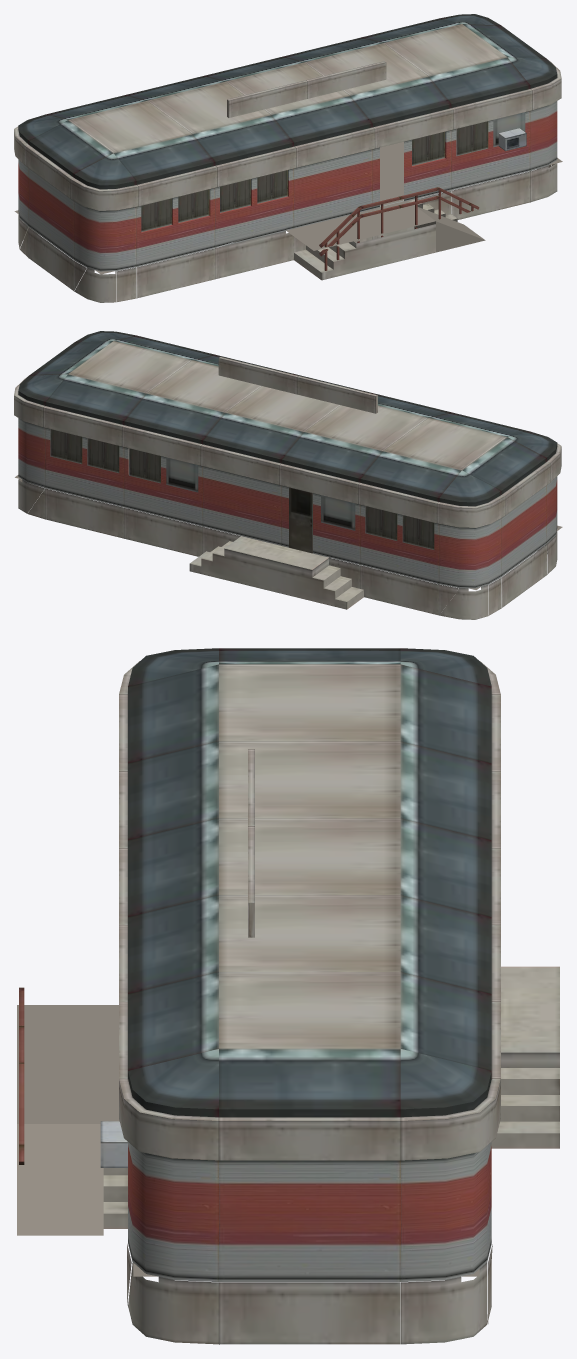
File: rural-diner.zfix-v14.lod1.glb
3 renders of one model, top to bottom at view 1: azimuth 30°, elevation 25°; view 2: azimuth 150°, elevation 25°; view 3: azimuth 270°, elevation 25°, orthographic. The views are drawn at different scales.
Visible parts, largest first — view 1: Rural_Diner_1_Rural_Facade_FLR_2_0, Rural_Diner_1_Rural_Trailer_Stuff_1_0, Walkable floors and stairs; view 2: Rural_Diner_1_Rural_Facade_FLR_2_0, Rural_Diner_1_Rural_Trailer_Stuff_1_0; view 3: Rural_Diner_1_Rural_Facade_FLR_2_0, Rural_Diner_1_Rural_Trailer_Stuff_1_0, Walkable floors and stairs.
Part boxes in pixels (x1,y1,x2,y2): Rural_Diner_1_Rural_Facade_FLR_2_0: (14,14,561,302); Rural_Diner_1_Rural_Trailer_Stuff_1_0: (18,101,557,271); Walkable floors and stairs: (14,142,562,274); Rural_Diner_1_Rural_Facade_FLR_2_0: (14,331,561,619); Rural_Diner_1_Rural_Trailer_Stuff_1_0: (18,418,557,588); Rural_Diner_1_Rural_Facade_FLR_2_0: (19,648,559,1344); Rural_Diner_1_Rural_Trailer_Stuff_1_0: (128,1142,491,1281); Walkable floors and stairs: (17,1005,479,1276).
Size of the model in its own units: 18.3 by 5.31 by 8.96.
Materials: 3 (2 with a texture image).
